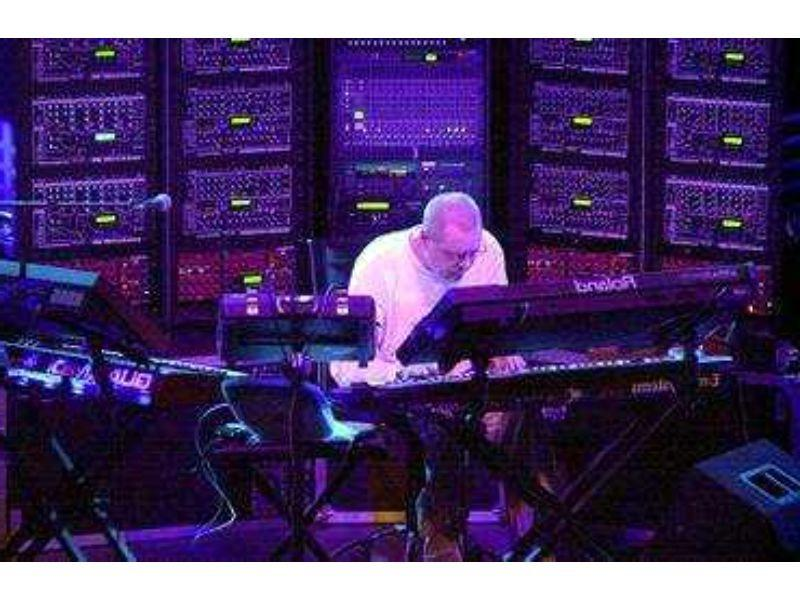synthesizer: (10, 328, 264, 438), (318, 349, 753, 410), (419, 273, 764, 310), (15, 255, 96, 309)
